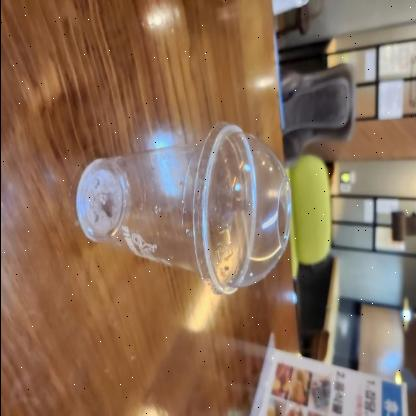Others: (188, 121, 297, 305)
